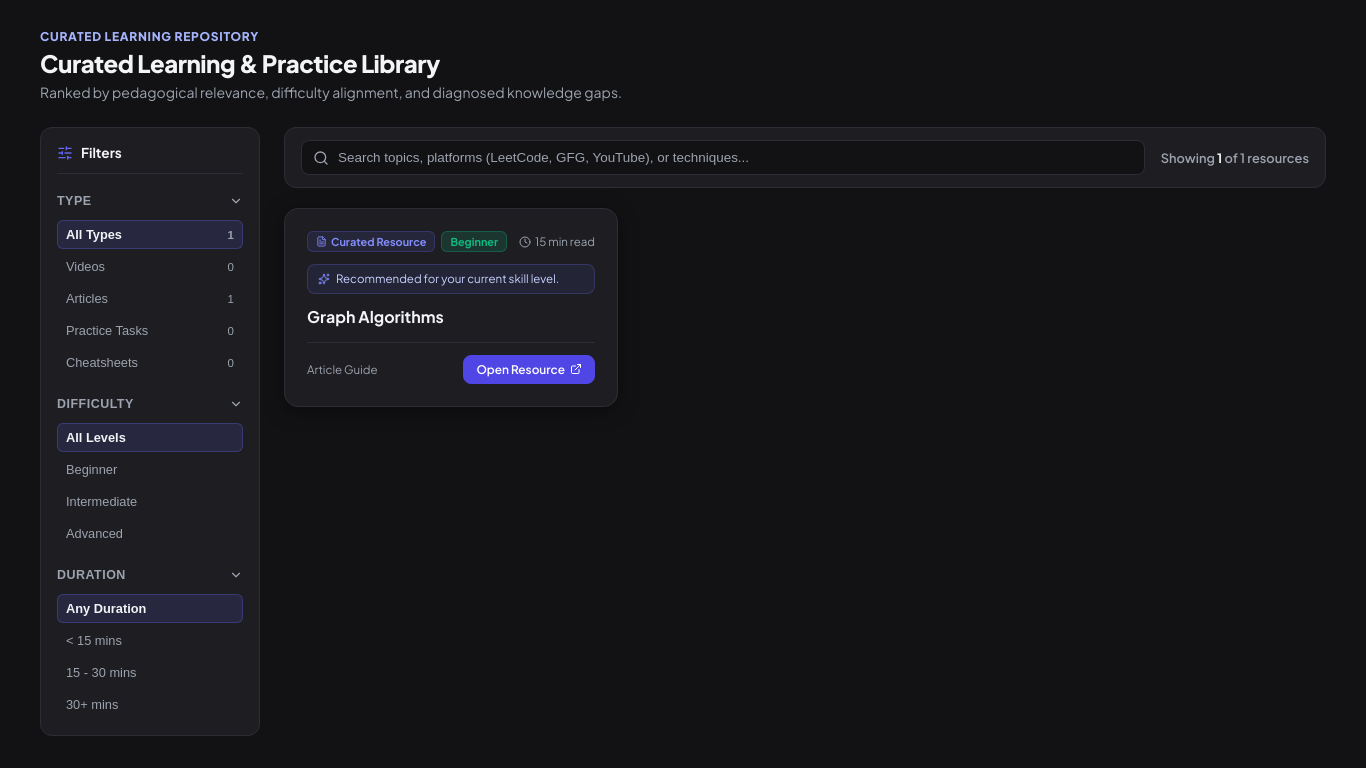
Scenario: Sprint one view interactions › ResourcesFullView exposes an empty state when search has no match
The image size is (1366, 768).
Replace the text in the field with placeholder "Search topics, platforms" with "Nonexistent topic": (723, 158) [301, 140, 1145, 175]
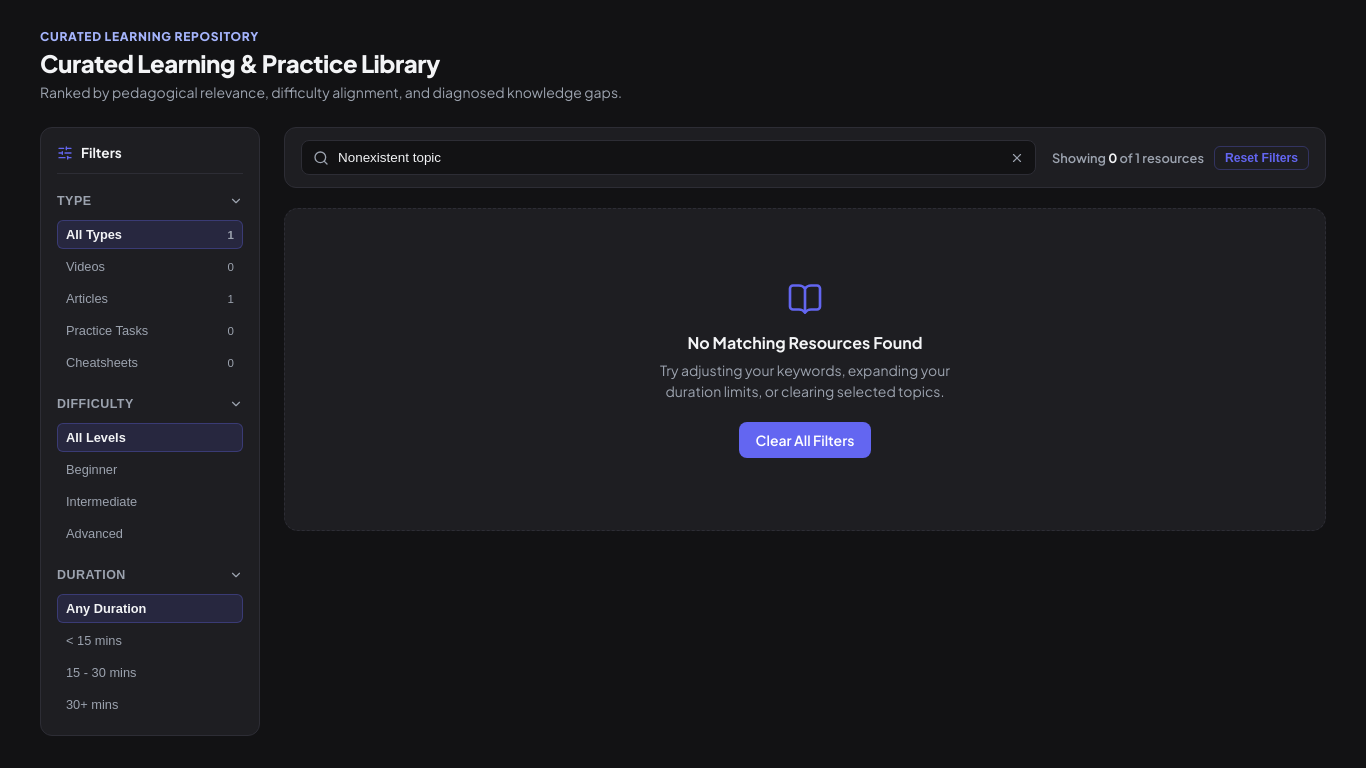
expect the heading "No Matching Resources Found" is shown: met, box [688, 333, 922, 354]
Click the button "Clear All Filters": (805, 440) [739, 422, 871, 458]
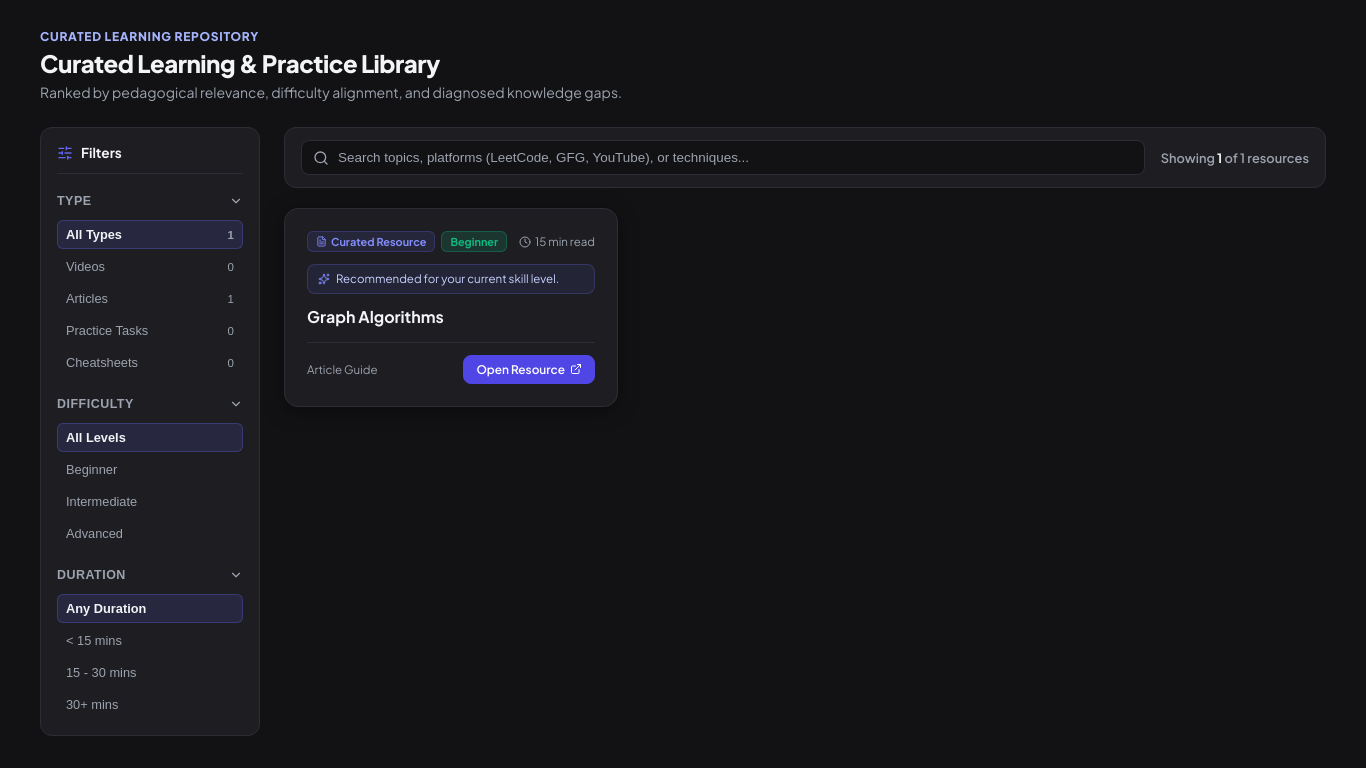
expect the heading "Graph Algorithms" is shown: met, box [307, 306, 444, 327]
